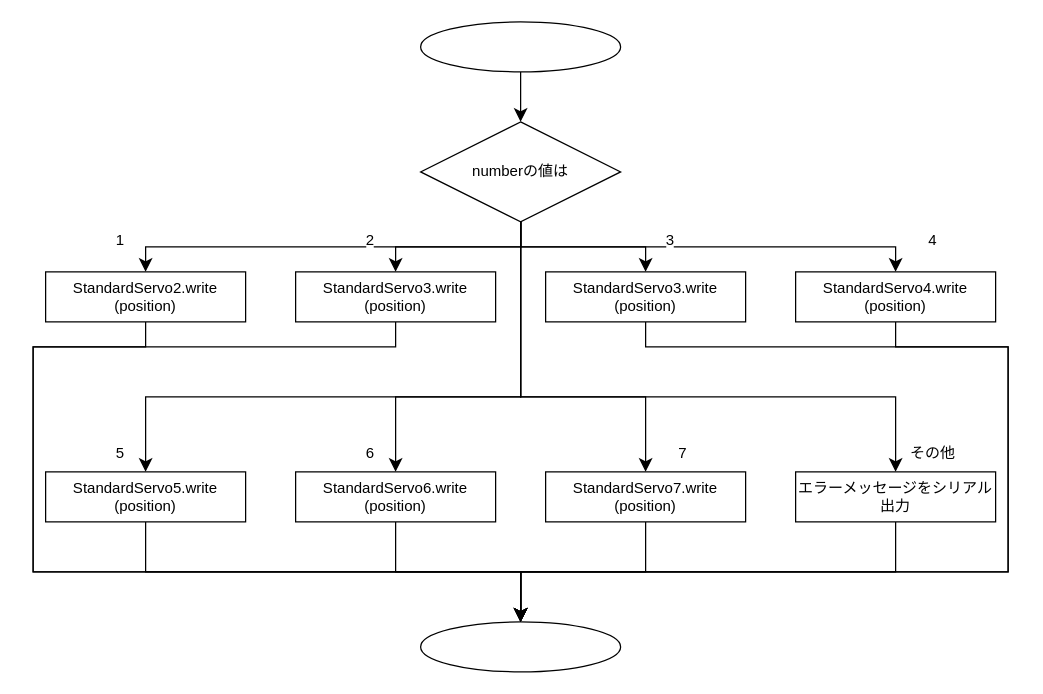
This 1043x694 diagram has some shape labels left out. The centre of each missing label's shape, as x and y in pixels:
終了: [520,646]
開始: [520,46]
